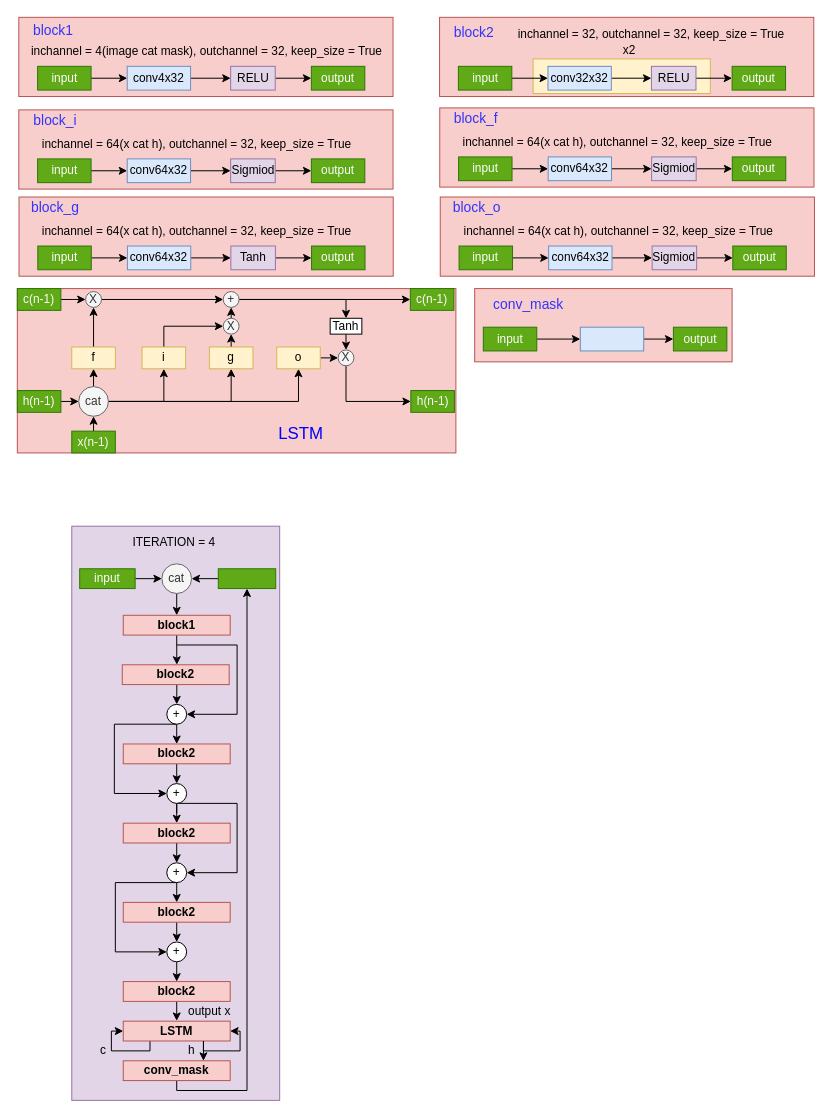
This 833x1118 diagram has some shape labels left out. The shapes that lost their labels are listed below. From the top down, each one's box as (x1, y1, x2, y2) in pixels, then its label:
(579, 326, 644, 351): conv32x1
(217, 568, 276, 589): mask
